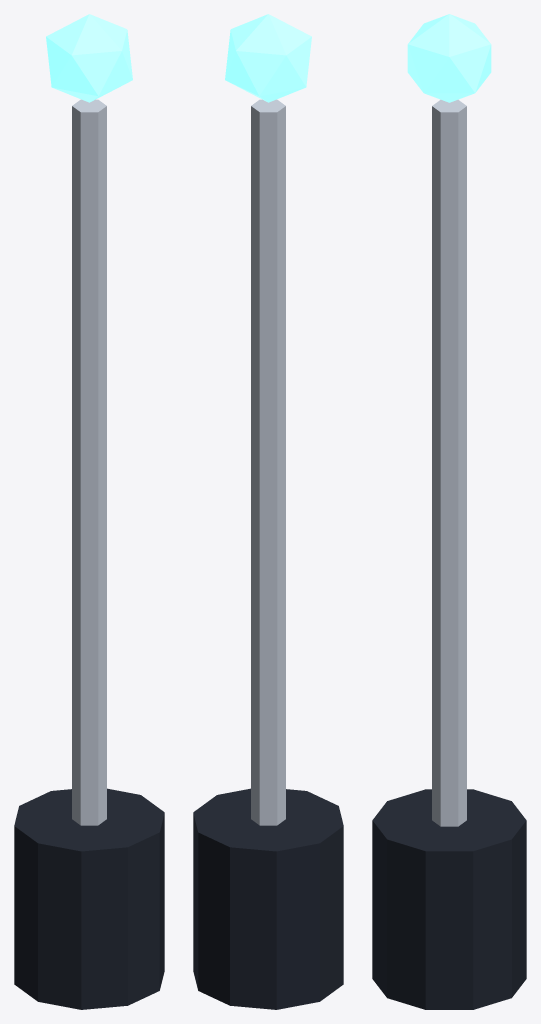
The model's file is mod_antena.fbx.
3 renders of one model, left to right at view 1: azimuth 30°, elevation 25°; view 2: azimuth 150°, elevation 25°; view 3: azimuth 270°, elevation 25°, orthographic.
Visible parts, largest first — view 1: Antena, Antena_Neon; view 2: Antena, Antena_Neon; view 3: Antena, Antena_Neon.
Part boxes in pixels (box(x1,y1,x2,y2)): Antena: box(14, 99, 164, 1009); Antena_Neon: box(46, 14, 132, 102); Antena: box(193, 99, 343, 1009); Antena_Neon: box(225, 14, 311, 102); Antena: box(372, 99, 526, 1009); Antena_Neon: box(407, 14, 491, 102).
Bounding box in the file's own units: 0.1172 × 0.8624 × 0.1232.
